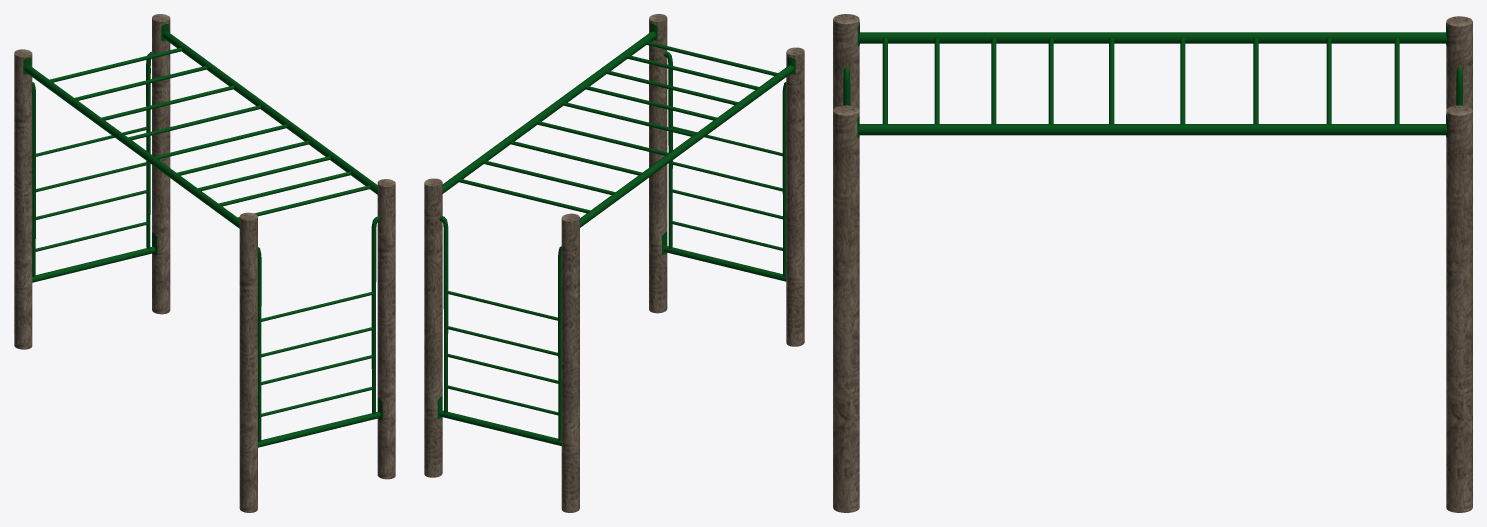
Rendered from ParkMonkeyBars.fbx.
The picture shows the model from 3 angles, left to right: view 1: azimuth 30°, elevation 25°; view 2: azimuth 150°, elevation 25°; view 3: azimuth 270°, elevation 25°; orthographic projection. The views are drawn at different scales.
Parts seen in each view (by area): view 1: Monkeybars2; view 2: Monkeybars2; view 3: Monkeybars2.
Boxes of the visible parts, left/top/right/bottom form: Monkeybars2: left=14, top=14, right=395, bottom=512; Monkeybars2: left=424, top=14, right=804, bottom=512; Monkeybars2: left=833, top=14, right=1472, bottom=512.
Size of the model in its own units: 2.25 by 4.13 by 5.99.
